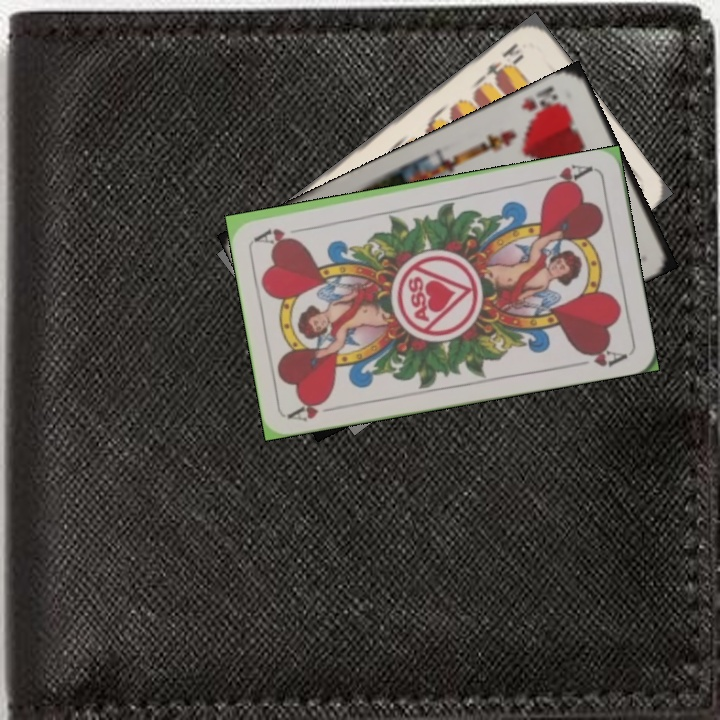E10: (478, 38, 527, 85)
HA: (538, 160, 596, 193), (286, 393, 345, 424)
HK: (517, 82, 568, 123)
